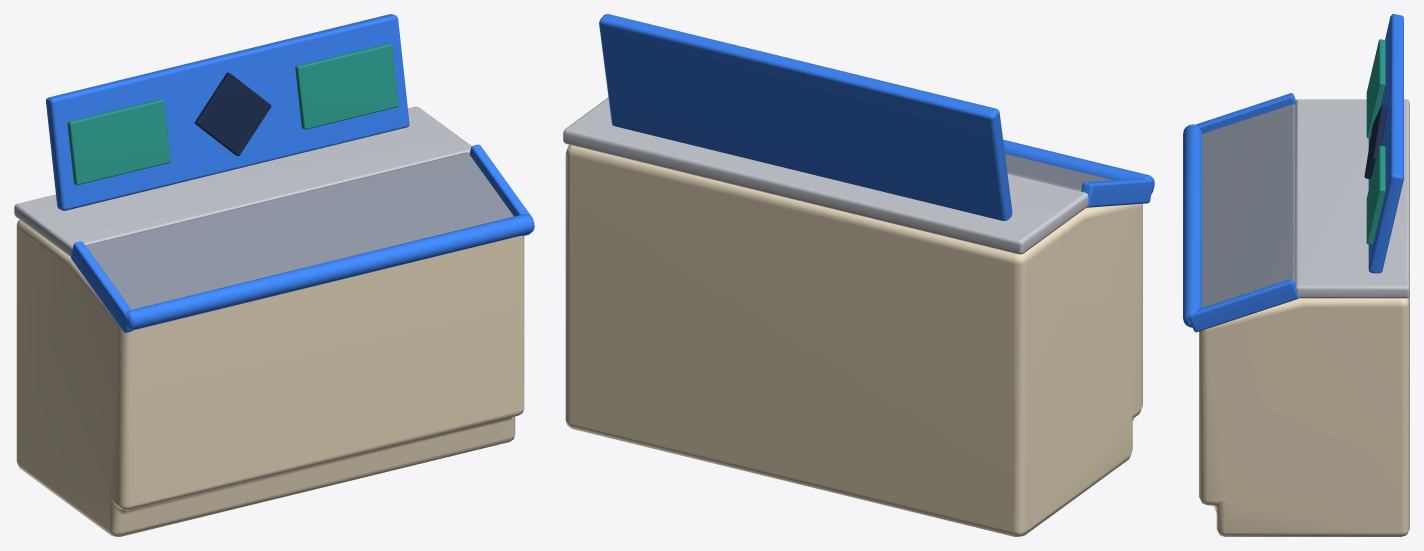
Rendered from Console_MissionPlanner.fbx.
3 views of the same model, side by side, from view 1: azimuth 30°, elevation 25°; view 2: azimuth 150°, elevation 25°; view 3: azimuth 270°, elevation 25° (orthographic). The views are drawn at different scales.
Parts seen in each view (by area): view 1: Console_MissionPlanner.Body, Console_MissionPlanner.Panel, Console_MissionPlanner.Board, Console_MissionPlanner.Top, Console_MissionPlanner.Rim, Console_MissionPlanner.Screen_R, Console_MissionPlanner.Screen_L, Console_MissionPlanner.Icon; view 2: Console_MissionPlanner.Body, Console_MissionPlanner.Board, Console_MissionPlanner.Top, Console_MissionPlanner.Rim, Console_MissionPlanner.Panel; view 3: Console_MissionPlanner.Body, Console_MissionPlanner.Top, Console_MissionPlanner.Panel, Console_MissionPlanner.Rim, Console_MissionPlanner.Board, Console_MissionPlanner.Screen_R, Console_MissionPlanner.Screen_L, Console_MissionPlanner.Icon.
Boxes of the visible parts, x1,y1,x2,y2 form: Console_MissionPlanner.Body: [16, 220, 524, 536]; Console_MissionPlanner.Panel: [85, 152, 513, 309]; Console_MissionPlanner.Board: [46, 14, 409, 210]; Console_MissionPlanner.Top: [14, 106, 471, 256]; Console_MissionPlanner.Rim: [71, 144, 534, 332]; Console_MissionPlanner.Screen_R: [295, 43, 398, 129]; Console_MissionPlanner.Screen_L: [67, 99, 170, 185]; Console_MissionPlanner.Icon: [194, 72, 271, 155]; Console_MissionPlanner.Body: [565, 144, 1142, 536]; Console_MissionPlanner.Board: [599, 14, 1012, 220]; Console_MissionPlanner.Top: [563, 97, 1088, 254]; Console_MissionPlanner.Rim: [1003, 139, 1154, 207]; Console_MissionPlanner.Panel: [1005, 154, 1111, 191]; Console_MissionPlanner.Body: [1199, 295, 1409, 536]; Console_MissionPlanner.Top: [1295, 99, 1409, 298]; Console_MissionPlanner.Panel: [1202, 104, 1295, 307]; Console_MissionPlanner.Rim: [1183, 93, 1298, 332]; Console_MissionPlanner.Board: [1368, 14, 1403, 273]; Console_MissionPlanner.Screen_R: [1366, 145, 1385, 244]; Console_MissionPlanner.Screen_L: [1366, 39, 1385, 138]; Console_MissionPlanner.Icon: [1364, 105, 1387, 178].
Bounding box in the file's own units: 1.29 × 1.11 × 0.6485.
1 material, 1 textured.
